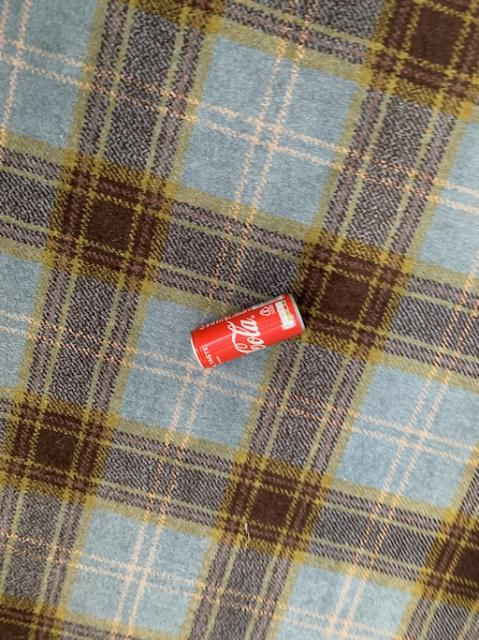metal: (190, 292, 304, 366)
